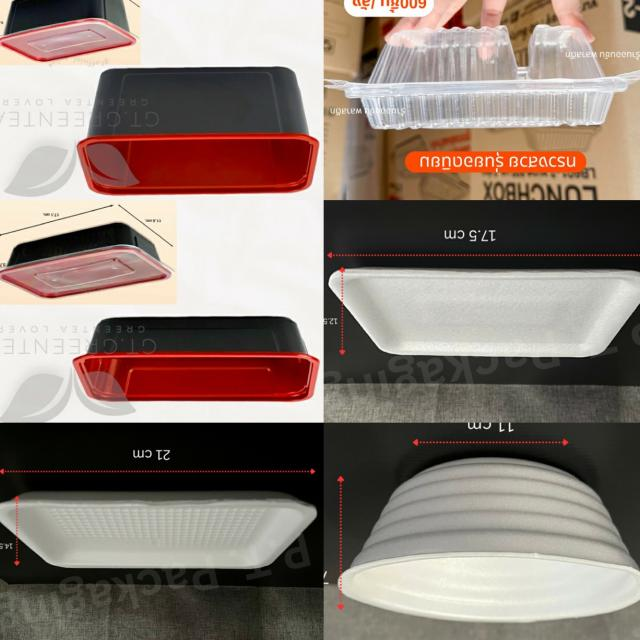plastik: (340, 457, 640, 622), (327, 25, 640, 129), (78, 67, 319, 195), (329, 268, 640, 357), (0, 491, 317, 568), (74, 317, 319, 401), (0, 223, 173, 298), (0, 0, 137, 62)
